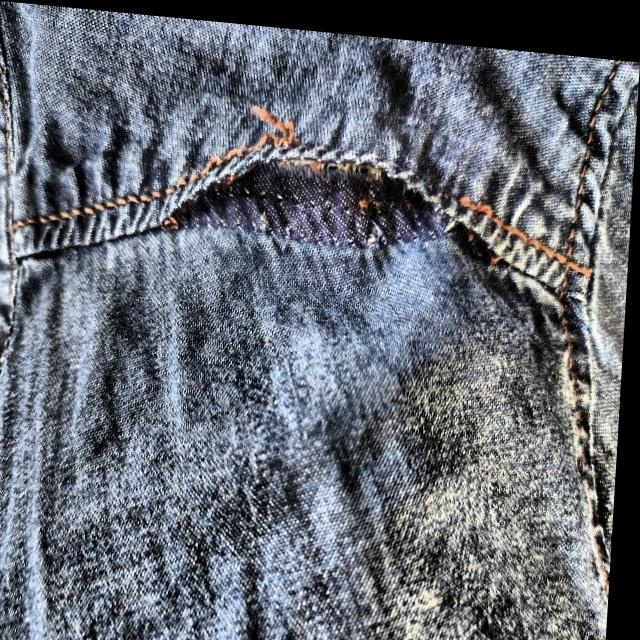seam: (149, 78, 492, 319)
